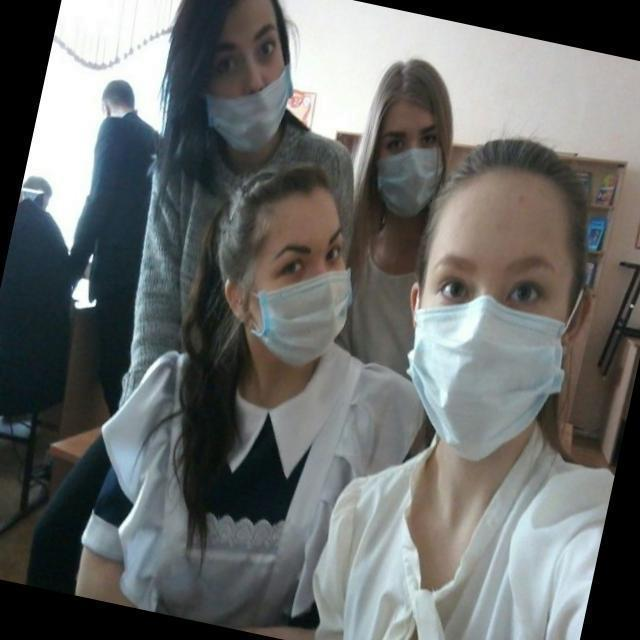no_apron: (420, 294, 561, 452), (256, 276, 356, 360), (374, 152, 438, 212)
no_gloves: (210, 157, 339, 256), (445, 130, 581, 213), (168, 0, 308, 46), (370, 55, 457, 111)
no_hairnet: (200, 65, 302, 138)
